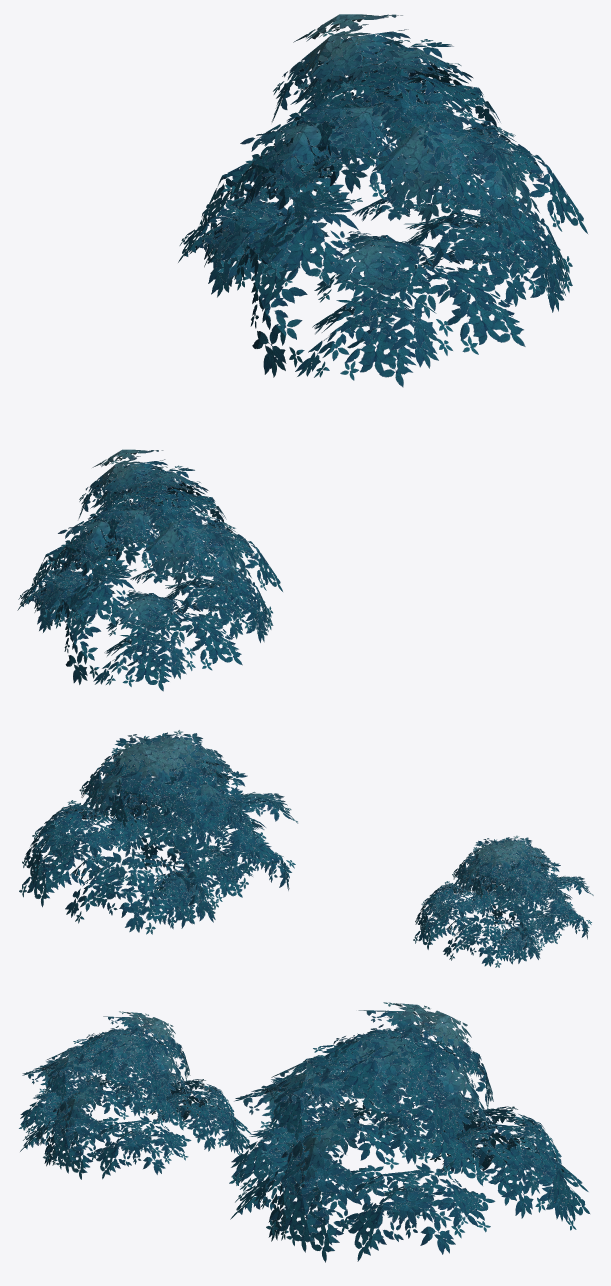
Rendered from Area10_13.fbx.
3 renders of one model, top to bottom at view 1: azimuth 30°, elevation 25°; view 2: azimuth 150°, elevation 25°; view 3: azimuth 270°, elevation 25°, orthographic. The views are drawn at different scales.
Visible parts, largest first — view 1: Area10_13; view 2: Area10_13; view 3: Area10_13.
Part boxes in pixels (<box>): Area10_13: <box>17,14,588,691</box>; Area10_13: <box>19,730,593,967</box>; Area10_13: <box>19,1002,590,1262</box>.
Bounding box in the file's own units: 2365 × 1224 × 2123.
